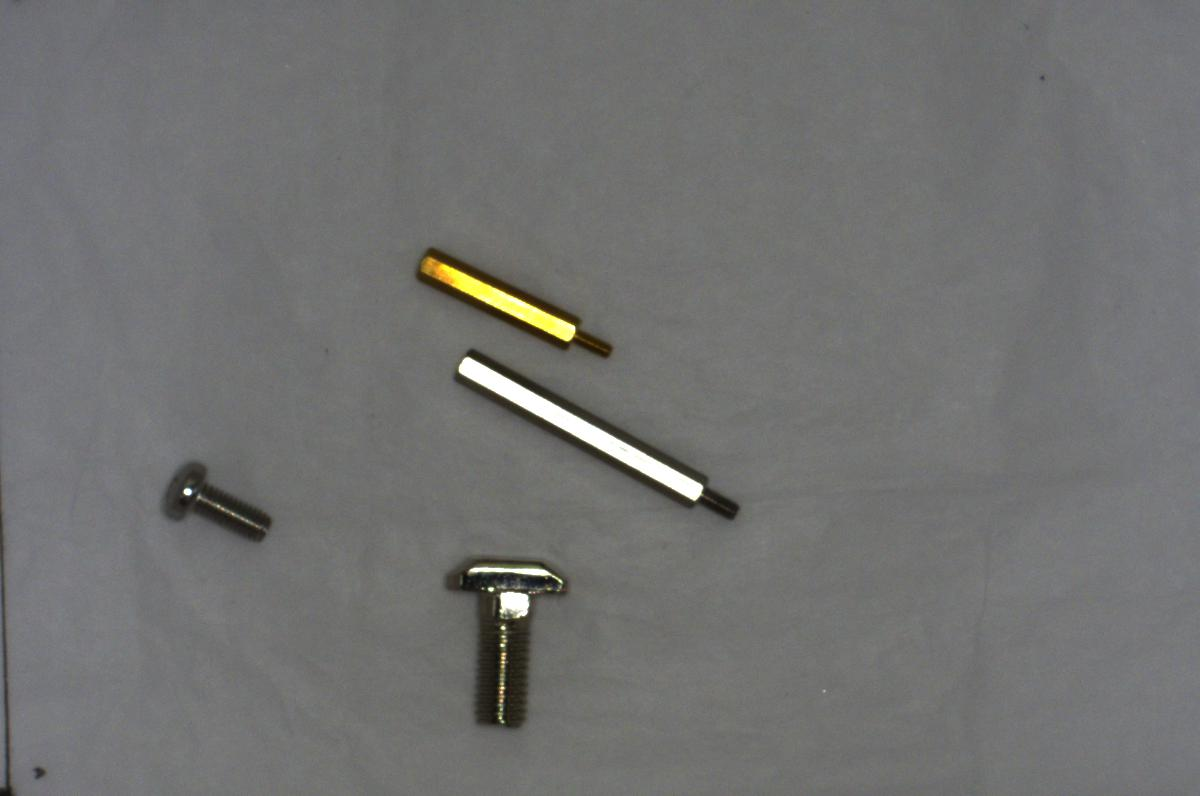Hexagon pillar: (405, 248, 619, 361)
Hexagonal steel column: (448, 341, 744, 525)
Round head screw: (151, 452, 277, 543)
T-shaped screw: (440, 547, 573, 738)
